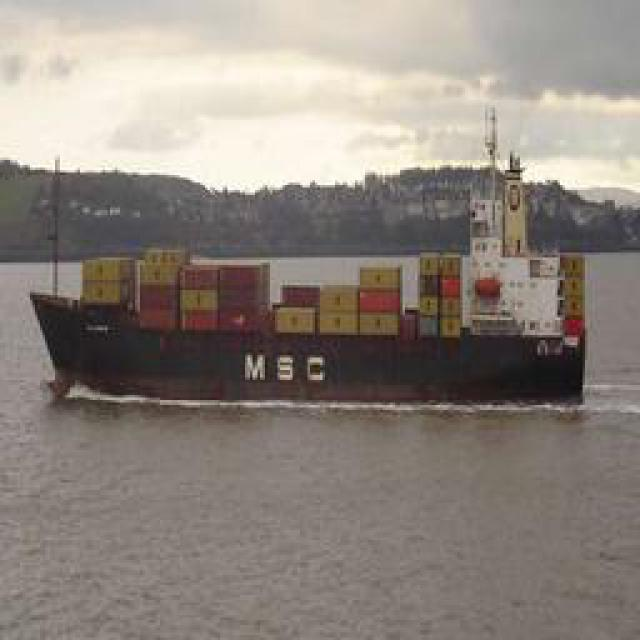Ship: (17, 129, 622, 416)
